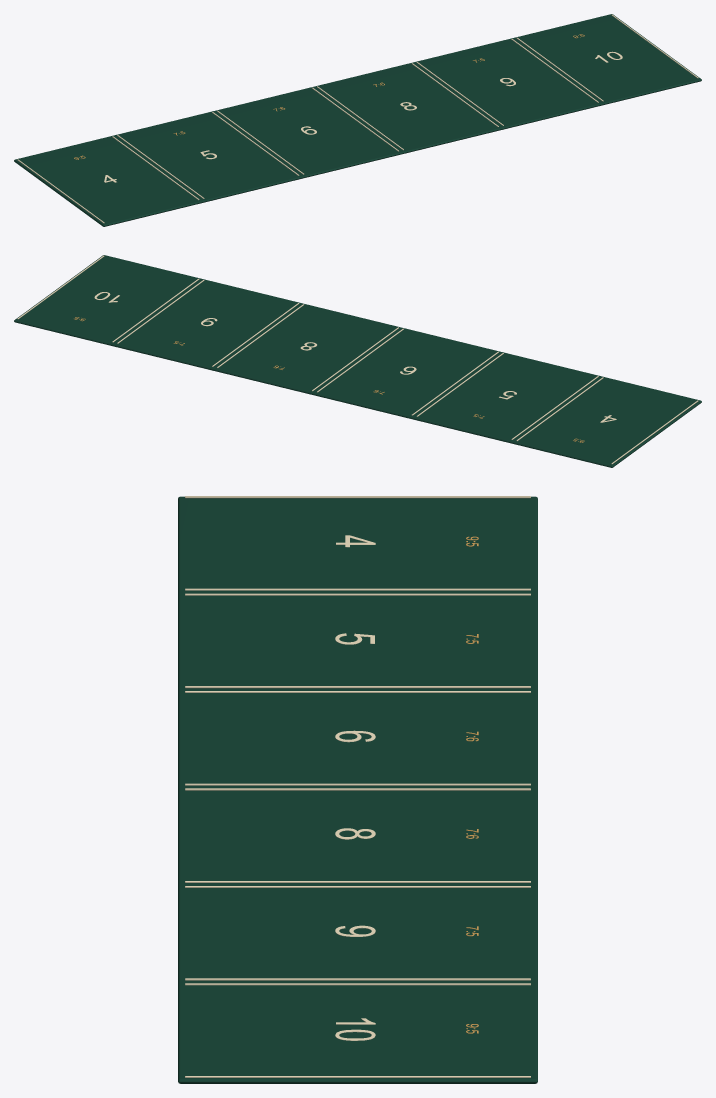
The model's file is betting-layout.glb.
The picture shows the model from 3 angles, top to bottom: view 1: azimuth 30°, elevation 25°; view 2: azimuth 150°, elevation 25°; view 3: azimuth 270°, elevation 25°; orthographic projection. The views are drawn at different scales.
Visible parts, largest first — view 1: Place bet baize; view 2: Place bet baize; view 3: Place bet baize, Box edge, Box edge.001, Box edge.002, Box edge.003, Box edge.005, Box edge.006, Box edge.009, Box edge.010.
Boxes of the visible parts, <box> form: Place bet baize: <box>14,14,701,226</box>; Place bet baize: <box>14,255,701,467</box>; Place bet baize: <box>178,496,537,1083</box>; Box edge: <box>185,496,530,498</box>; Box edge.001: <box>185,588,530,590</box>; Box edge.002: <box>185,593,530,595</box>; Box edge.003: <box>185,686,530,688</box>; Box edge.005: <box>185,783,530,785</box>; Box edge.006: <box>185,788,530,790</box>; Box edge.009: <box>185,978,530,980</box>; Box edge.010: <box>185,983,530,985</box>.
Bounding box in the file's own units: 4.8 × 0.0287 × 1.25.
